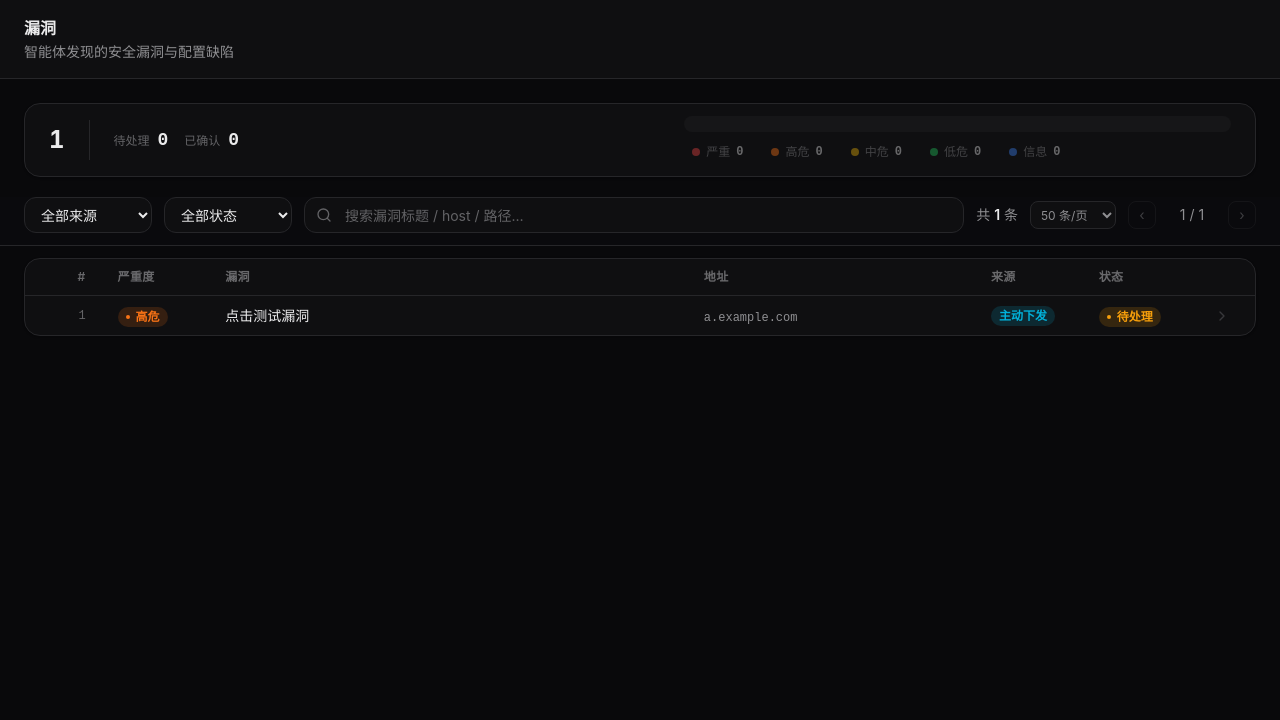
FindingsPage › 点击表格行打开详情抽屉
Click the text "点击测试漏洞" at (267, 316), box [225,306,309,326]
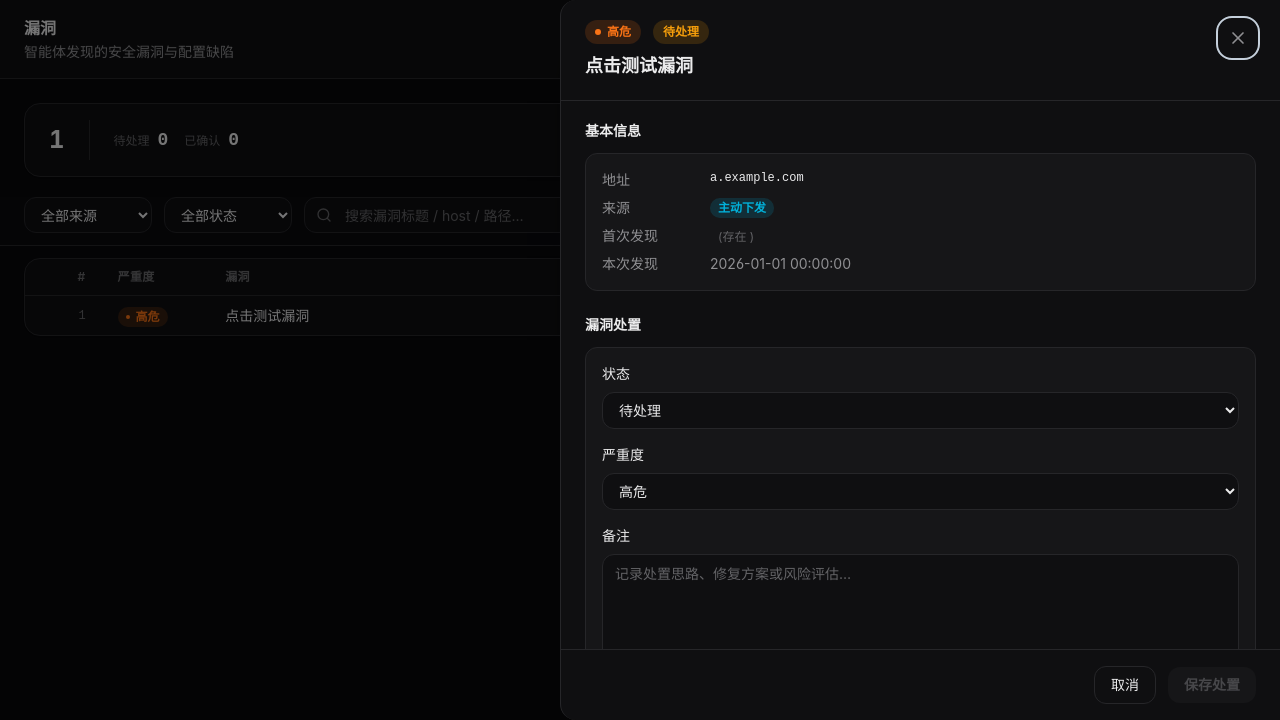
expect the heading "漏洞处置" is shown: met, box [585,316,641,333]
